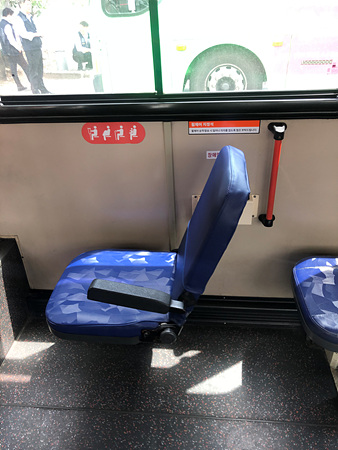seat: (45, 147, 249, 342)
